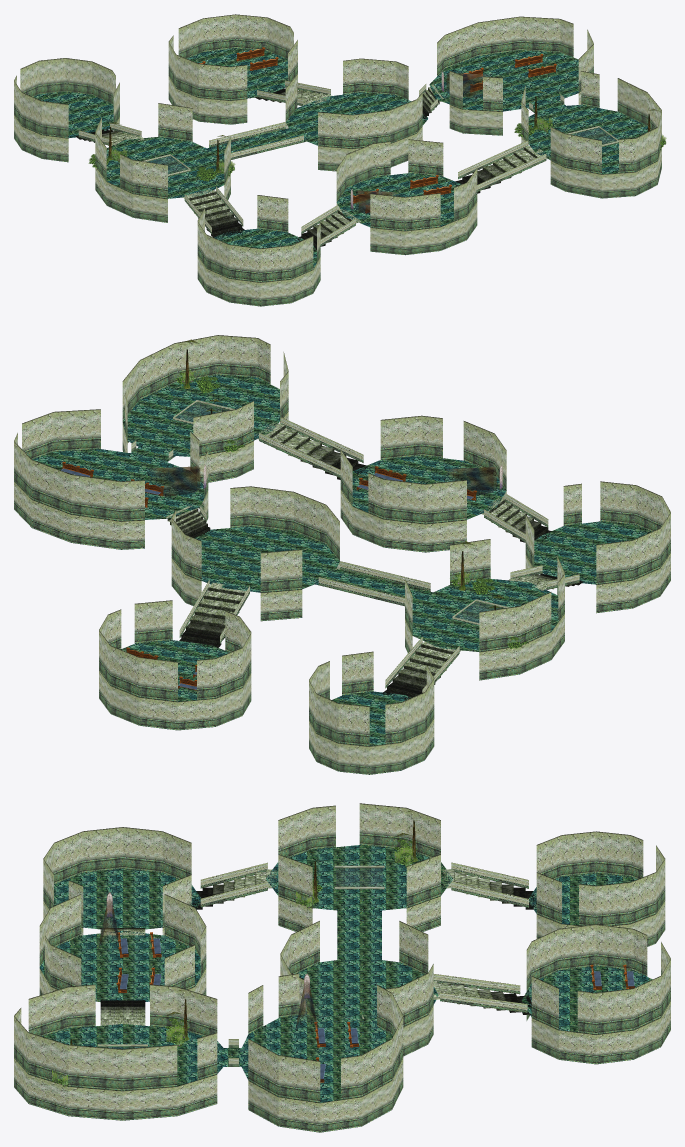
File: anterose.gltf
3 renders of one model, top to bottom at view 1: azimuth 30°, elevation 25°; view 2: azimuth 150°, elevation 25°; view 3: azimuth 270°, elevation 25°, orthographic. The views are drawn at different scales.
Parts seen in each view (by area): view 1: Les ouvertures muettes; view 2: Les ouvertures muettes; view 3: Les ouvertures muettes.
Part boxes in pixels (x1,y1,x2,y2): Les ouvertures muettes: (14, 14, 666, 306); Les ouvertures muettes: (14, 335, 670, 774); Les ouvertures muettes: (14, 803, 670, 1132).
Bounding box in the file's own units: 50.27 × 10.17 × 49.96.
14 materials, 14 textured.
